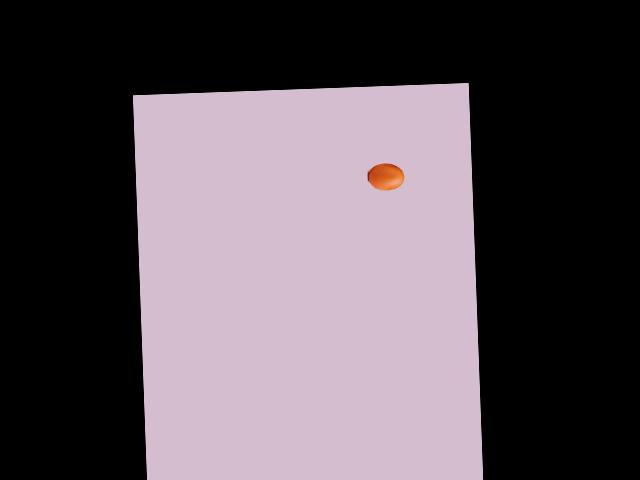egg: (367, 162, 404, 190)
